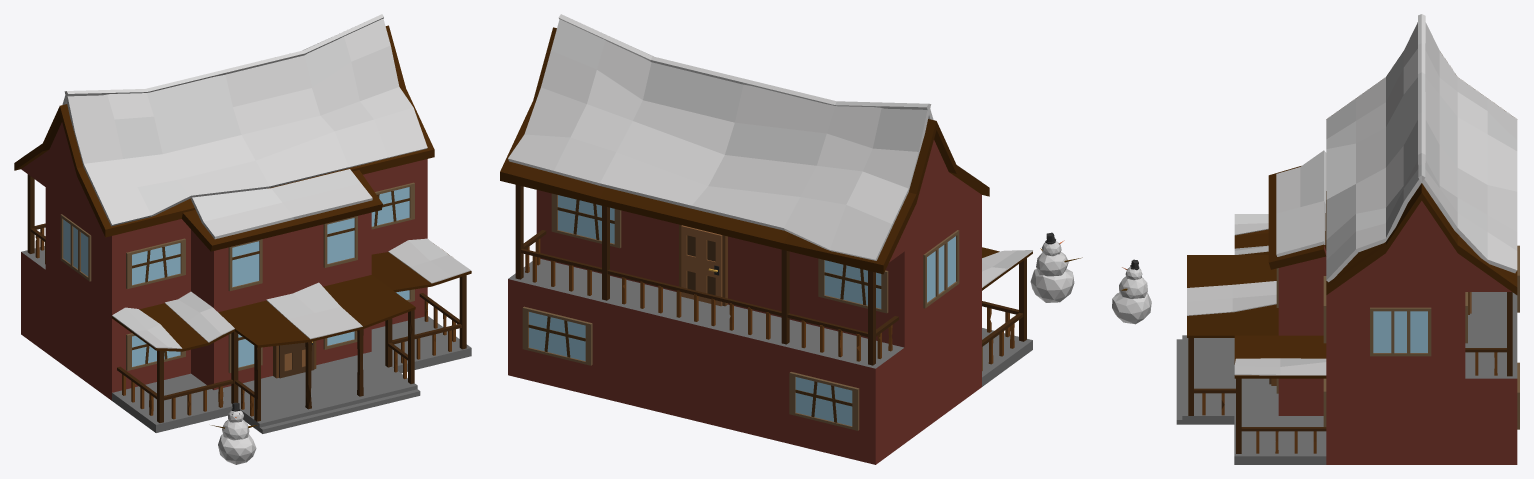
Rendered from House_09.fbx.
3 views of the same model, side by side, from view 1: azimuth 30°, elevation 25°; view 2: azimuth 150°, elevation 25°; view 3: azimuth 270°, elevation 25° (orthographic). The views are drawn at different scales.
Parts seen in each view (by area): view 1: House_09_Snow, House_09, House_09_Detail_04, House_09_Window_Detail_01, House_09_Roof, House_09_Detail_01, House_09_Detail_02, House_09_Detail_03, House_09_Snowman, House_09_Window_Detail_02, House_09_Door_Detail_02; view 2: House_09, House_09_Snow, House_09_Window_Detail_01, House_09_Detail_01, House_09_Detail_02, House_09_Door_Detail_02.001, House_09_Detail_03, House_09_Snowman, House_09_Window_Detail_02, House_09_Detail_04; view 3: House_09, House_09_Snow, House_09_Detail_04, House_09_Roof, House_09_Window_Detail_01, House_09_Snowman, House_09_Detail_01, House_09_Detail_03, House_09_Detail_02.
Boxes of the visible parts, x1,y1,x2,y2 form: House_09_Snow: (22, 14, 470, 348); House_09: (14, 25, 434, 400); House_09_Detail_04: (112, 316, 471, 433); House_09_Window_Detail_01: (60, 182, 414, 372); House_09_Roof: (112, 249, 471, 351); House_09_Detail_01: (27, 174, 466, 422); House_09_Detail_02: (35, 228, 455, 419); House_09_Detail_03: (30, 223, 461, 400); House_09_Snowman: (211, 402, 257, 464); House_09_Window_Detail_02: (132, 191, 410, 364); House_09_Door_Detail_02: (279, 341, 314, 378); House_09: (500, 27, 989, 464); House_09_Snow: (508, 14, 1032, 287); House_09_Window_Detail_01: (522, 193, 959, 430); House_09_Detail_01: (515, 185, 1026, 365); House_09_Detail_02: (525, 239, 1014, 370); House_09_Door_Detail_02.001: (681, 225, 722, 306); House_09_Detail_03: (521, 230, 1023, 346); House_09_Snowman: (1030, 232, 1082, 302); House_09_Window_Detail_02: (528, 199, 881, 422); House_09_Detail_04: (982, 328, 1032, 386); House_09: (1268, 110, 1517, 464); House_09_Snow: (1187, 14, 1517, 375); House_09_Detail_04: (1176, 335, 1326, 464); House_09_Roof: (1187, 229, 1326, 378); House_09_Window_Detail_01: (1276, 245, 1519, 429); House_09_Snowman: (1112, 259, 1151, 324); House_09_Detail_01: (1188, 292, 1512, 453); House_09_Detail_03: (1194, 348, 1506, 431); House_09_Detail_02: (1202, 352, 1497, 453).
Size of the model in its own units: 834 by 676 by 855.
